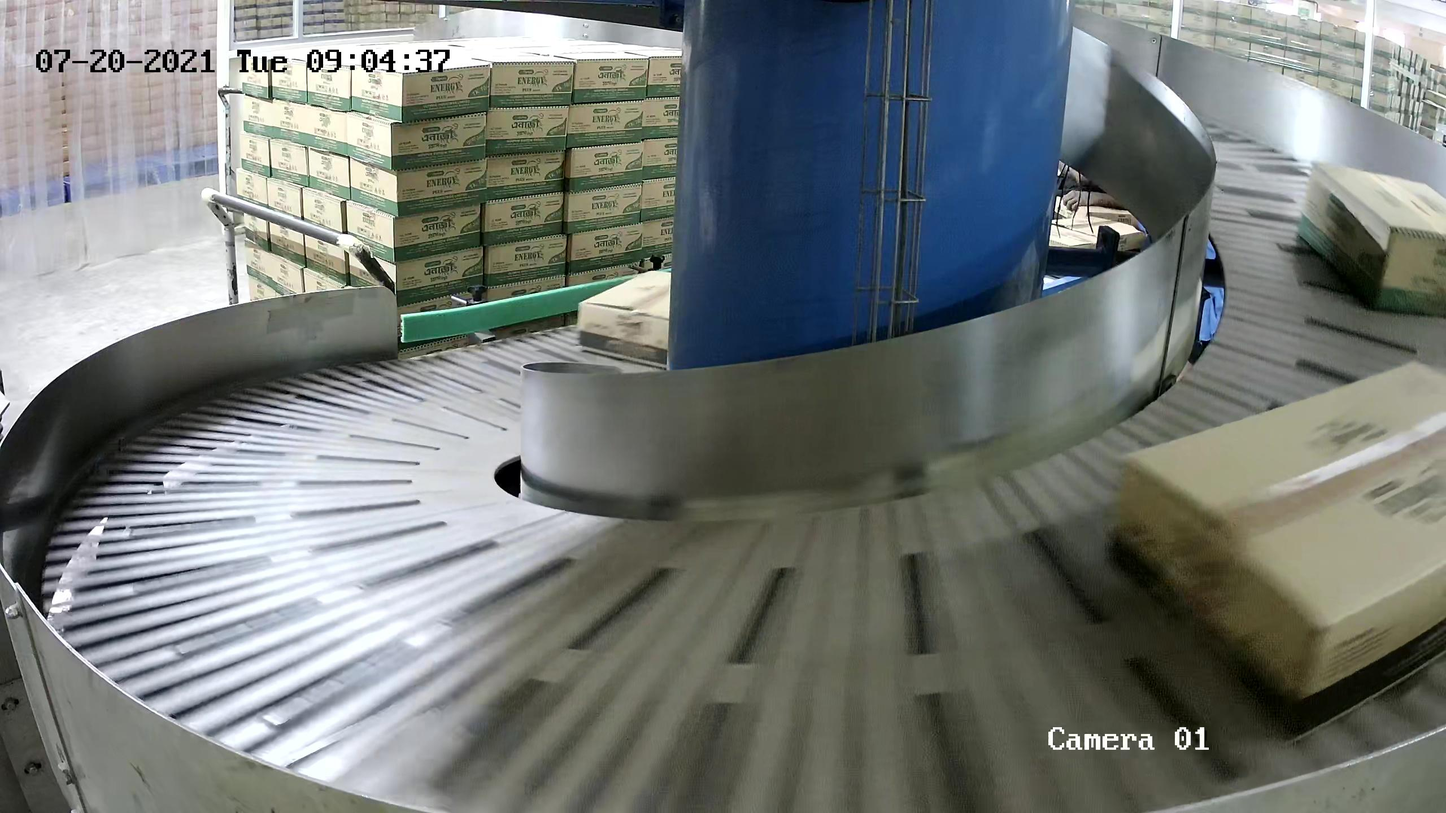Box: (1106, 355, 1446, 750), (1297, 159, 1446, 318), (576, 269, 672, 369)
